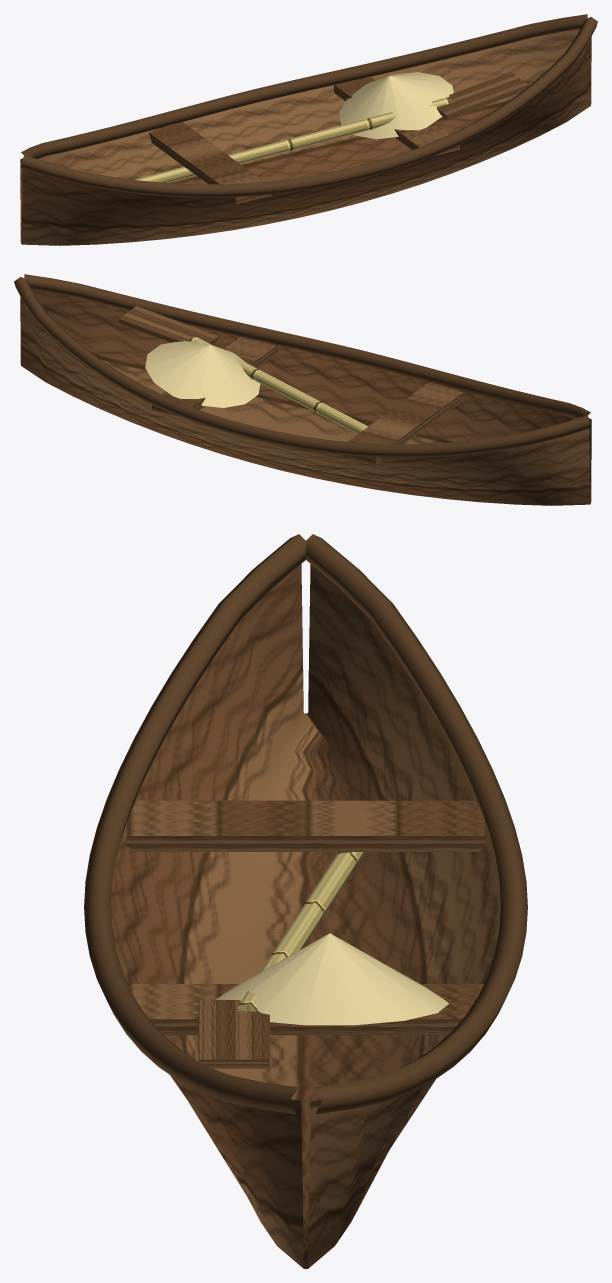
Rendered from xuong.glb.
The picture shows the model from 3 angles, top to bottom: view 1: azimuth 30°, elevation 25°; view 2: azimuth 150°, elevation 25°; view 3: azimuth 270°, elevation 25°; orthographic projection. The views are drawn at different scales.
Parts seen in each view (by area): view 1: xuong; view 2: xuong; view 3: xuong.
Boxes of the visible parts, left/top/right/bottom form: xuong: left=20, top=14, right=597, bottom=245; xuong: left=14, top=274, right=591, bottom=505; xuong: left=84, top=534, right=527, bottom=1268.
Bounding box in the file's own units: 1.11 × 0.2016 × 0.3715.
4 materials, 2 textured.
